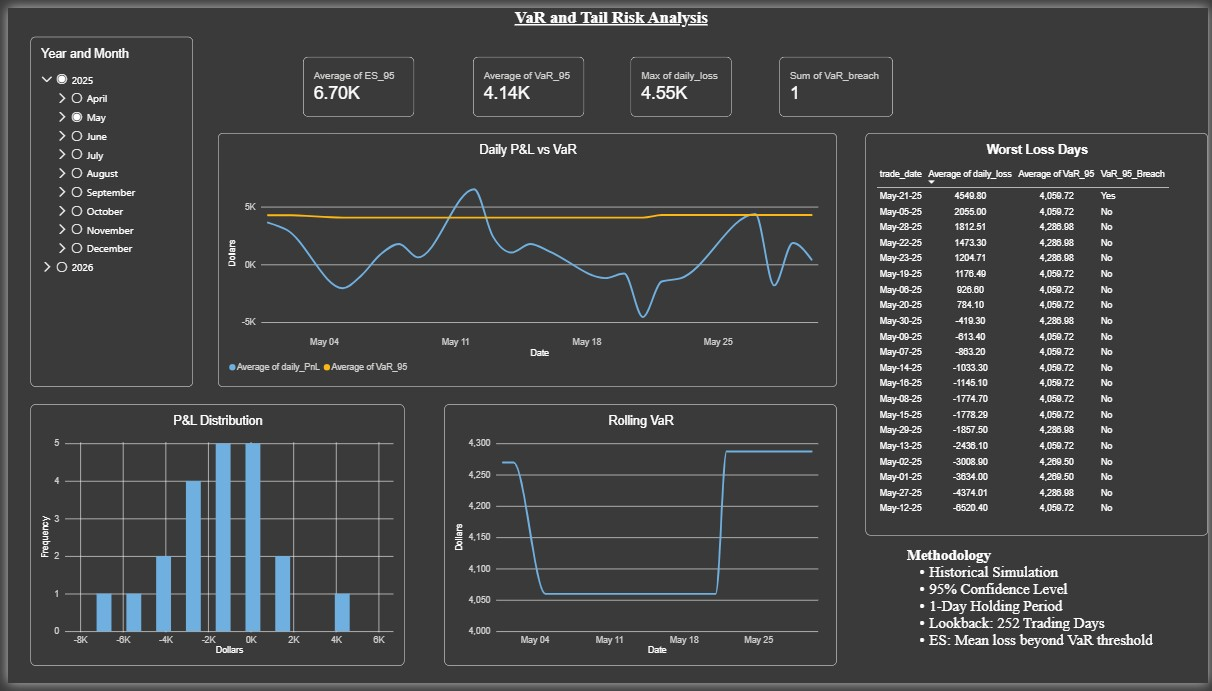

The page's visual inventory and layout, read from the dashboard file:
{"tool":"powerbi","page":{"name":"Page 2","canvas":[1920,1080],"ordinal":1},"visuals":[{"type":"cardVisual","fields":{"Data":["Sum(risk_metrics.var_breach)"]},"box":[1234.4,77.6,182,96],"z":0},{"type":"textbox","box":[10,0,1910,45],"z":1000},{"type":"cardVisual","fields":{"Data":["Max(risk_metrics.daily_loss)"]},"box":[996,78,162,96],"z":2000},{"type":"cardVisual","fields":{"Data":["Avg(risk_metrics.var_95)"]},"box":[744,78,178,96],"z":3000},{"type":"cardVisual","fields":{"Data":["Avg(risk_metrics.es_95)"]},"box":[472.4,77.6,178,96],"z":4000},{"type":"listSlicer","fields":{"Values":["risk_metrics.trade_date.Variation.Date Hierarchy.Year","risk_metrics.trade_date.Variation.Date Hierarchy.Month","risk_metrics.trade_date.Variation.Date Hierarchy.Day"]},"box":[36,46,260,560],"z":5000},{"type":"lineChart","title":"Daily P&L vs VaR","fields":{"Category":["risk_metrics.trade_date"],"Y":["Avg(risk_metrics.daily_pnl)","Avg(risk_metrics.var_95)"]},"box":[336,200,990,406],"z":6000},{"type":"clusteredColumnChart","title":"P&L Distribution","fields":{"Category":["risk_metrics.daily_loss (bins)"],"Y":["CountNonNull(risk_metrics.daily_loss)"]},"box":[36,634,598,418],"z":7000},{"type":"lineChart","title":"Rolling VaR","fields":{"Category":["risk_metrics.trade_date"],"Y":["Avg(risk_metrics.var_95)"]},"box":[698,634,628,418],"z":8000},{"type":"tableEx","title":"Worst Loss Days","fields":{"Values":["risk_metrics.trade_date","Avg(risk_metrics.daily_loss)","Avg(risk_metrics.var_95)","risk_metrics.VaR_95_Breach"]},"box":[1372,200,548,644],"z":9000},{"type":"textbox","box":[1438,862,414,190],"z":10000}]}

Visuals, with their boxes in screenshot pixels (x1, y1, x2, y2), scaled from the page's 1920x1080 canvas onto the 1212x691 screenshot:
cardVisual - Sum(risk_metrics.var_breach): {"left": 779, "top": 50, "right": 894, "bottom": 111}
textbox: {"left": 6, "top": 0, "right": 1211, "bottom": 29}
cardVisual - Max(risk_metrics.daily_loss): {"left": 629, "top": 50, "right": 731, "bottom": 111}
cardVisual - Avg(risk_metrics.var_95): {"left": 470, "top": 50, "right": 582, "bottom": 111}
cardVisual - Avg(risk_metrics.es_95): {"left": 298, "top": 50, "right": 411, "bottom": 111}
listSlicer - risk_metrics.trade_date.Variation.Date Hierarchy.Year x risk_metrics.trade_date.Variation.Date Hierarchy.Month: {"left": 23, "top": 29, "right": 187, "bottom": 388}
"Daily P&L vs VaR" lineChart: {"left": 212, "top": 128, "right": 837, "bottom": 388}
"P&L Distribution" clusteredColumnChart: {"left": 23, "top": 406, "right": 400, "bottom": 673}
"Rolling VaR" lineChart: {"left": 441, "top": 406, "right": 837, "bottom": 673}
"Worst Loss Days" tableEx: {"left": 866, "top": 128, "right": 1211, "bottom": 540}
textbox: {"left": 908, "top": 552, "right": 1169, "bottom": 673}
